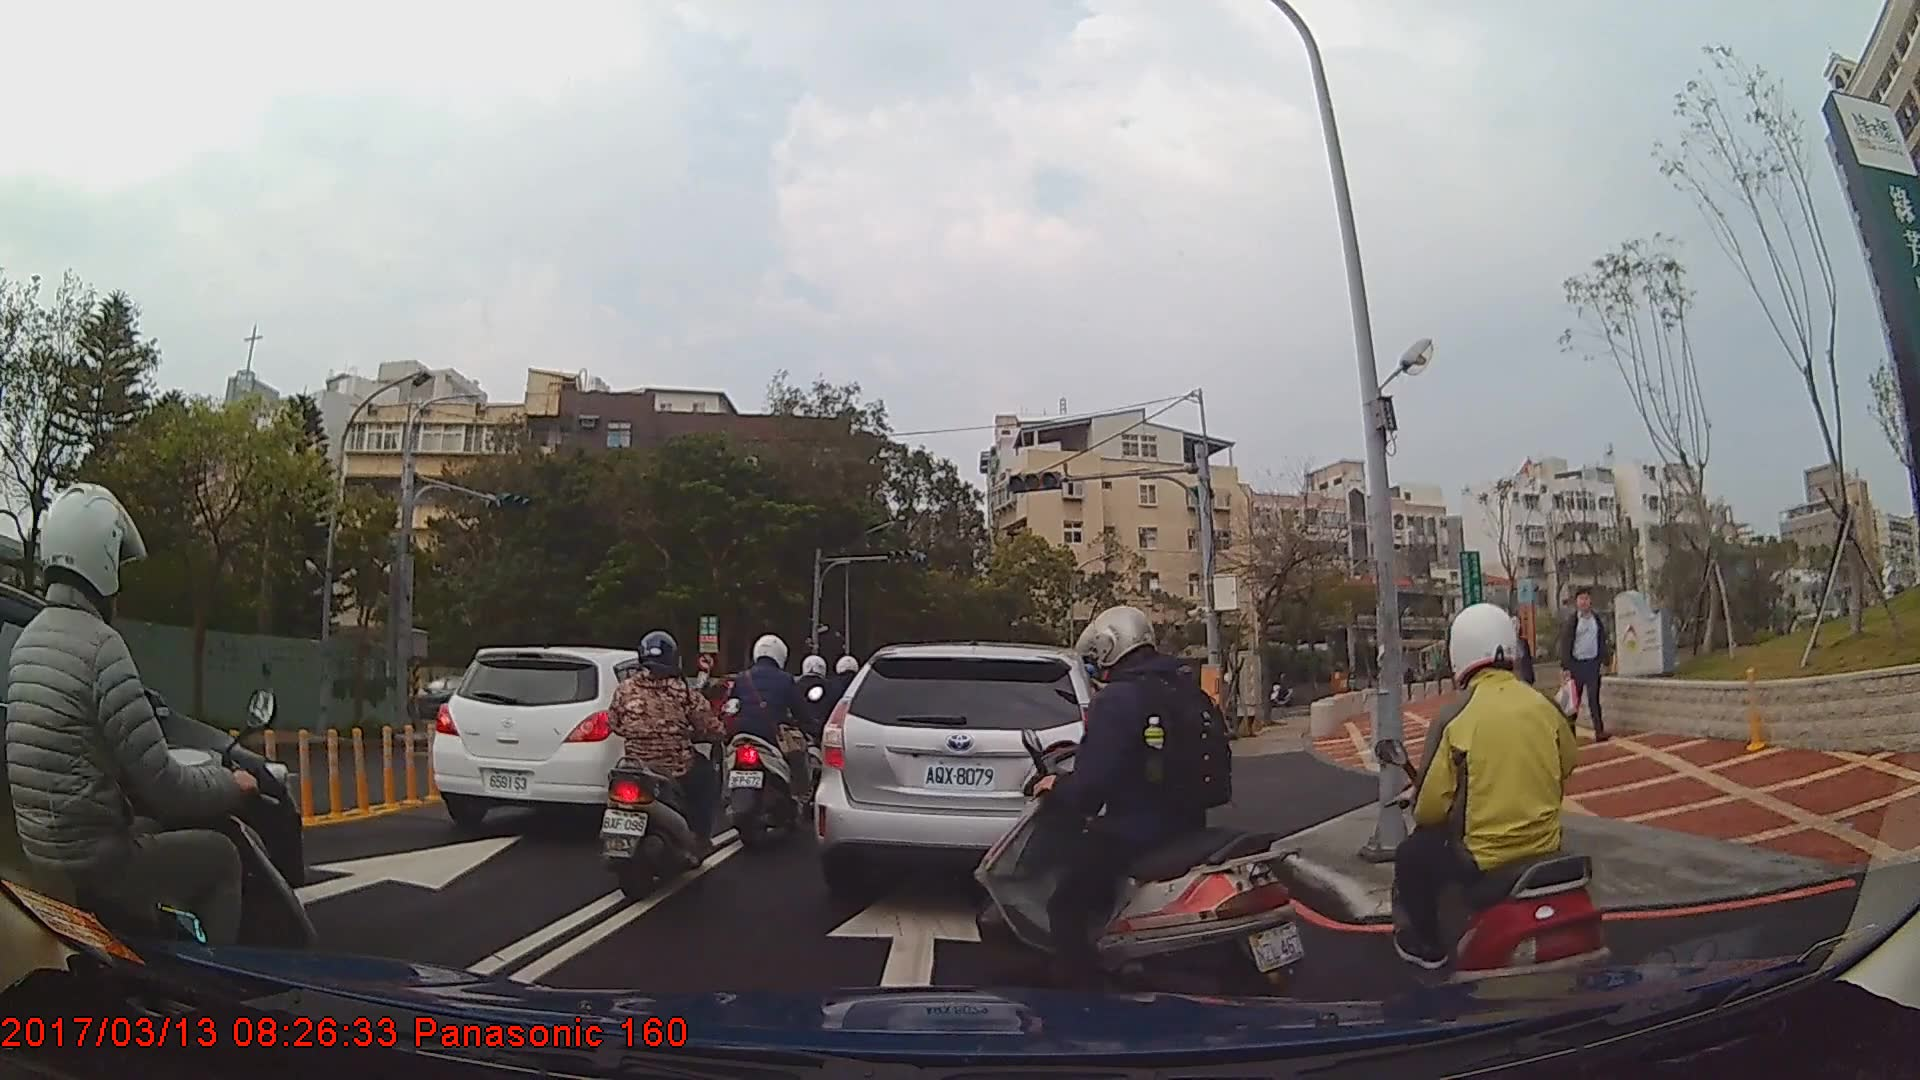pedestrian: (1564, 585, 1623, 744)
rider: (15, 479, 325, 1069), (972, 607, 1306, 1006), (1370, 598, 1609, 1036), (598, 629, 728, 904), (721, 631, 824, 848), (791, 655, 847, 802)
vehicle: (812, 639, 1118, 915), (428, 644, 725, 827), (409, 671, 498, 719)
